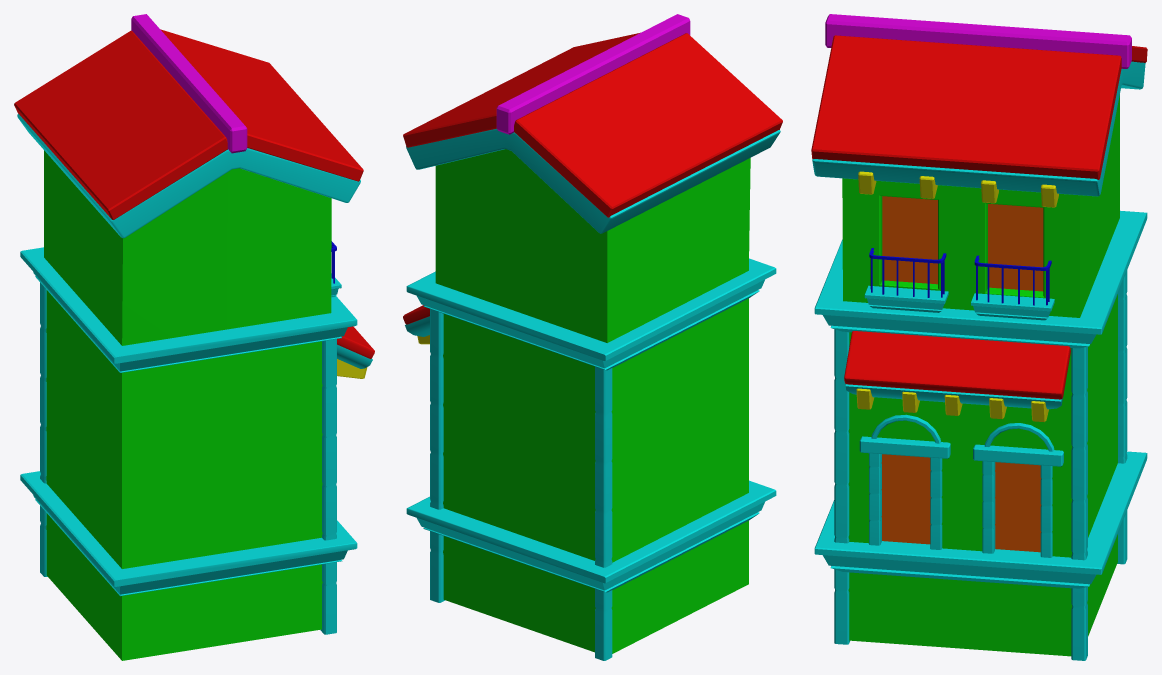
Rendered from yellowBuilding Unity.fbx.
3 renders of one model, left to right at view 1: azimuth 30°, elevation 25°; view 2: azimuth 150°, elevation 25°; view 3: azimuth 270°, elevation 25°, orthographic. The views are drawn at different scales.
Parts seen in each view (by area): view 1: yellowBuildingUnity; view 2: yellowBuildingUnity; view 3: yellowBuildingUnity.
Part boxes in pixels (<box>): yellowBuildingUnity: <box>14,14,374,660</box>; yellowBuildingUnity: <box>403,14,782,660</box>; yellowBuildingUnity: <box>811,14,1147,660</box>.
Size of the model in its own units: 11.21 by 19.73 by 10.49.
